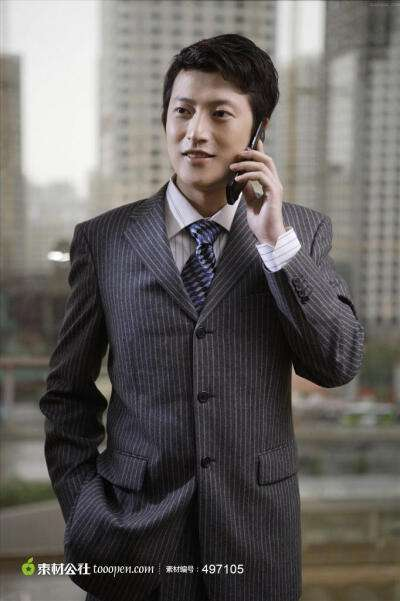calling: (223, 118, 285, 235)
